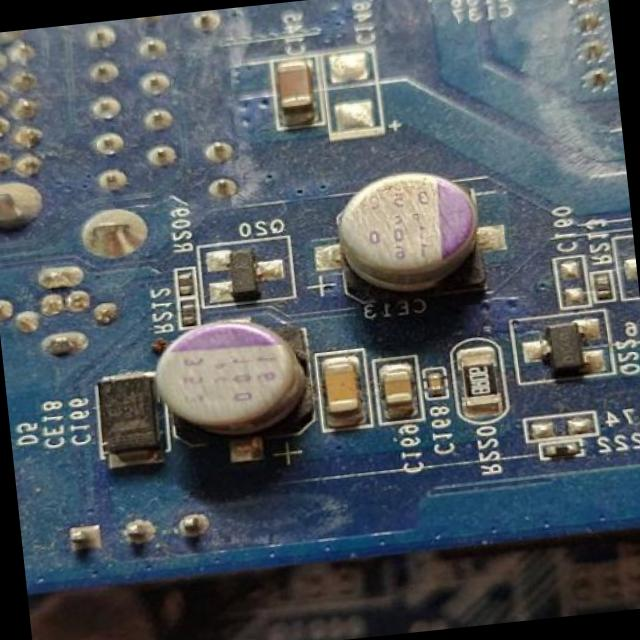capacitor: (152, 303, 320, 452), (324, 162, 498, 294), (316, 349, 368, 422), (282, 58, 322, 124), (378, 362, 420, 414), (424, 366, 448, 404)
diode: (84, 362, 162, 472)
resistor: (464, 349, 498, 409), (539, 440, 582, 460)
transistor: (198, 241, 286, 307), (524, 314, 604, 384)
